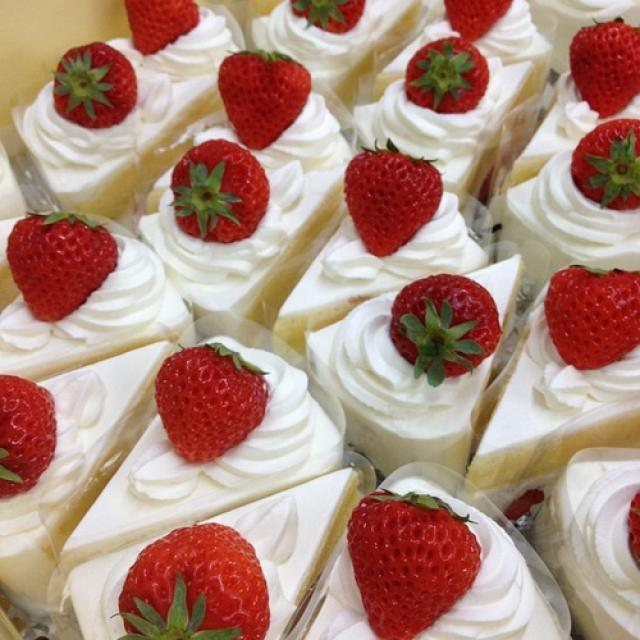蛋糕甜品: (4, 5, 634, 629)
